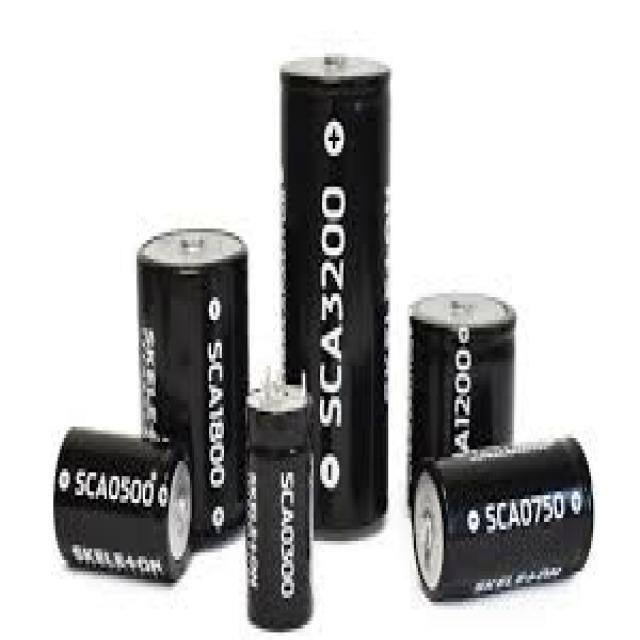battery: (280, 52, 390, 544), (135, 223, 249, 551), (411, 432, 594, 604), (407, 285, 515, 531), (55, 426, 195, 590), (245, 364, 313, 630)
